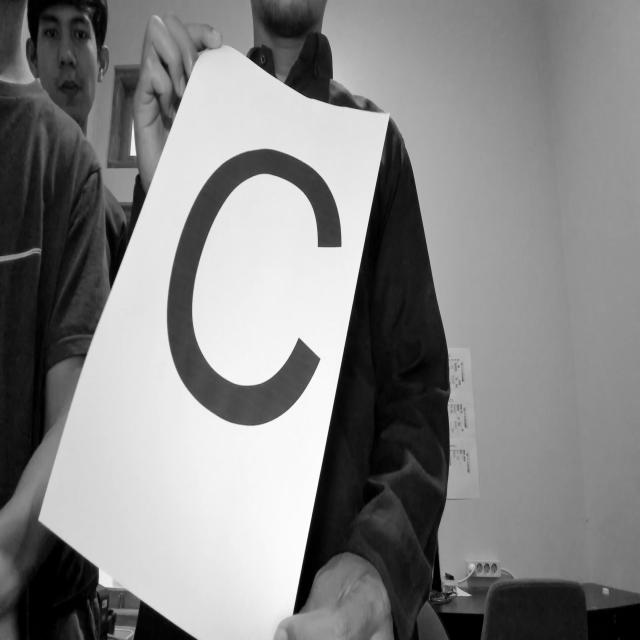c: (167, 124, 356, 476)
